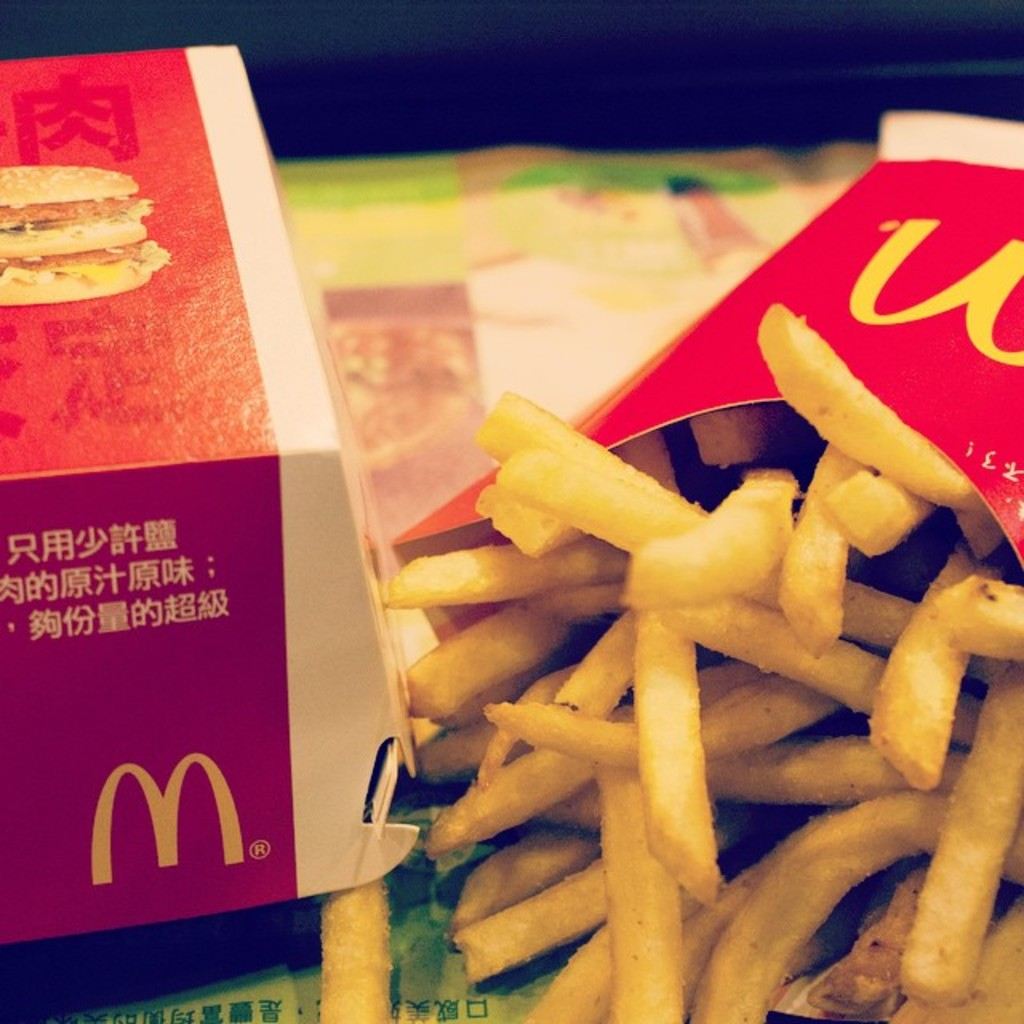French fries: (371, 308, 1022, 993)
